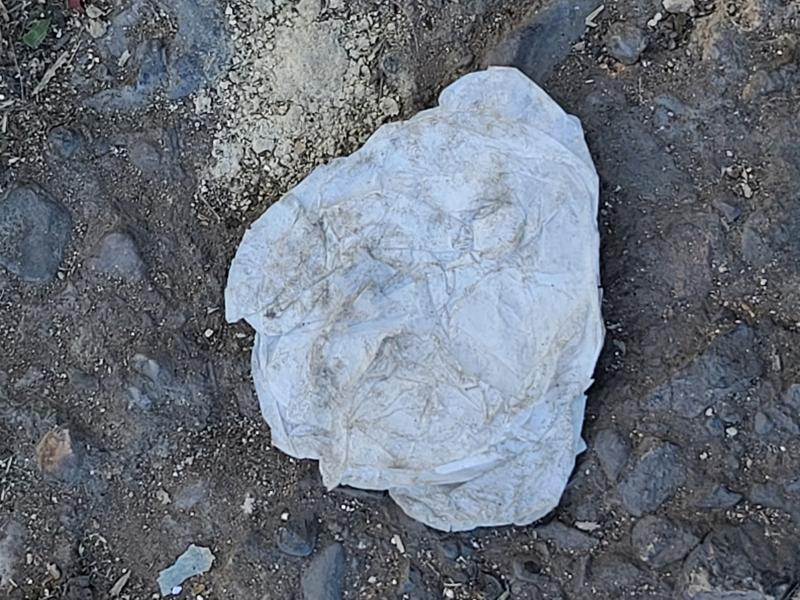papel: (222, 66, 607, 535)
